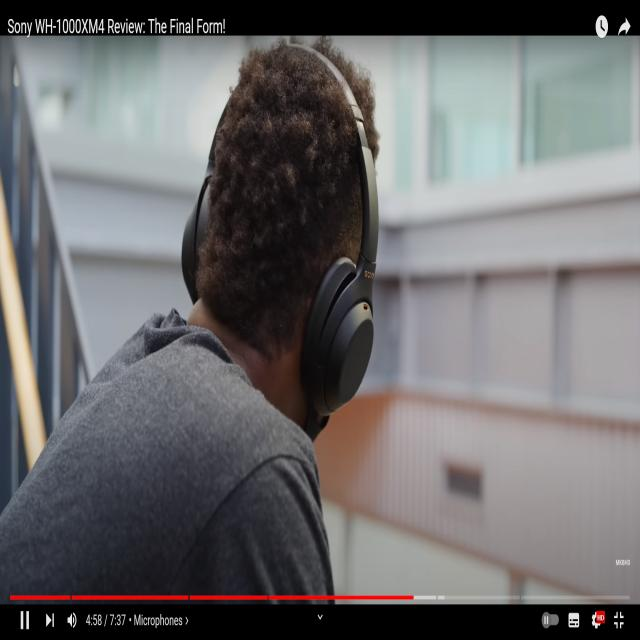Headphone: (182, 39, 380, 418)
